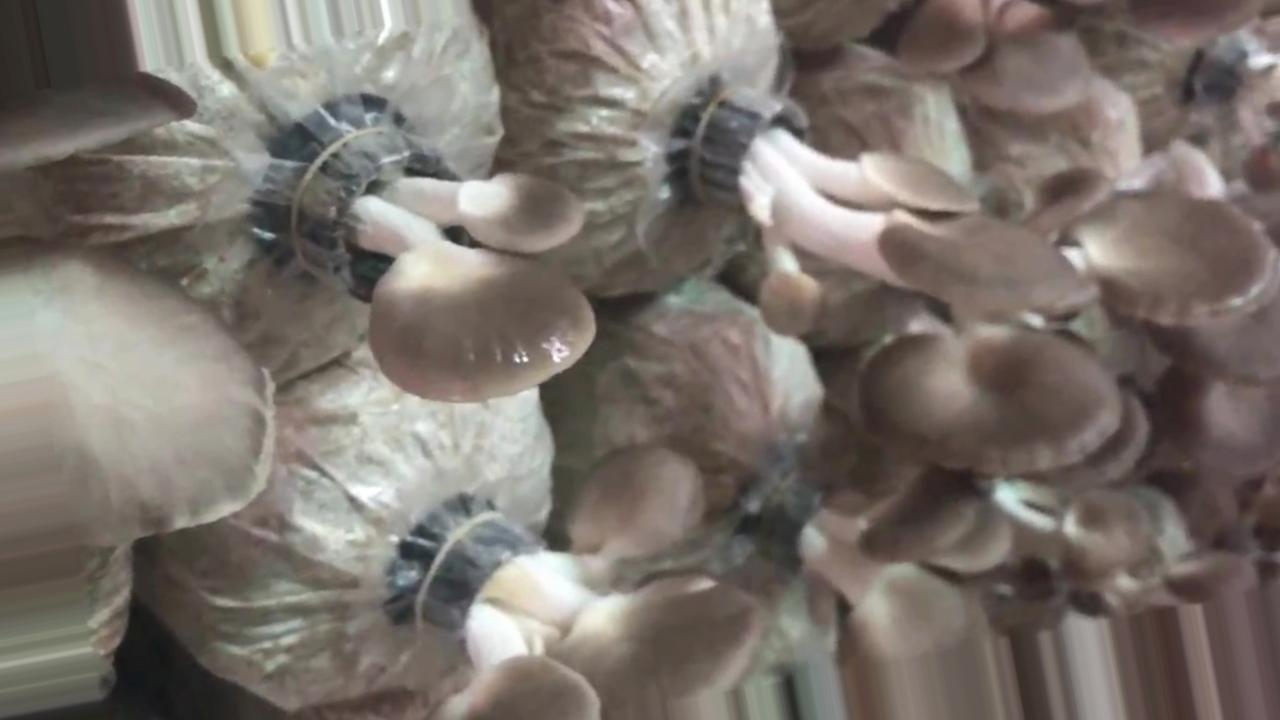nam: (699, 84, 1098, 342), (302, 128, 600, 412), (1, 234, 274, 544), (423, 503, 758, 720), (778, 473, 1030, 720), (1085, 194, 1280, 327)
